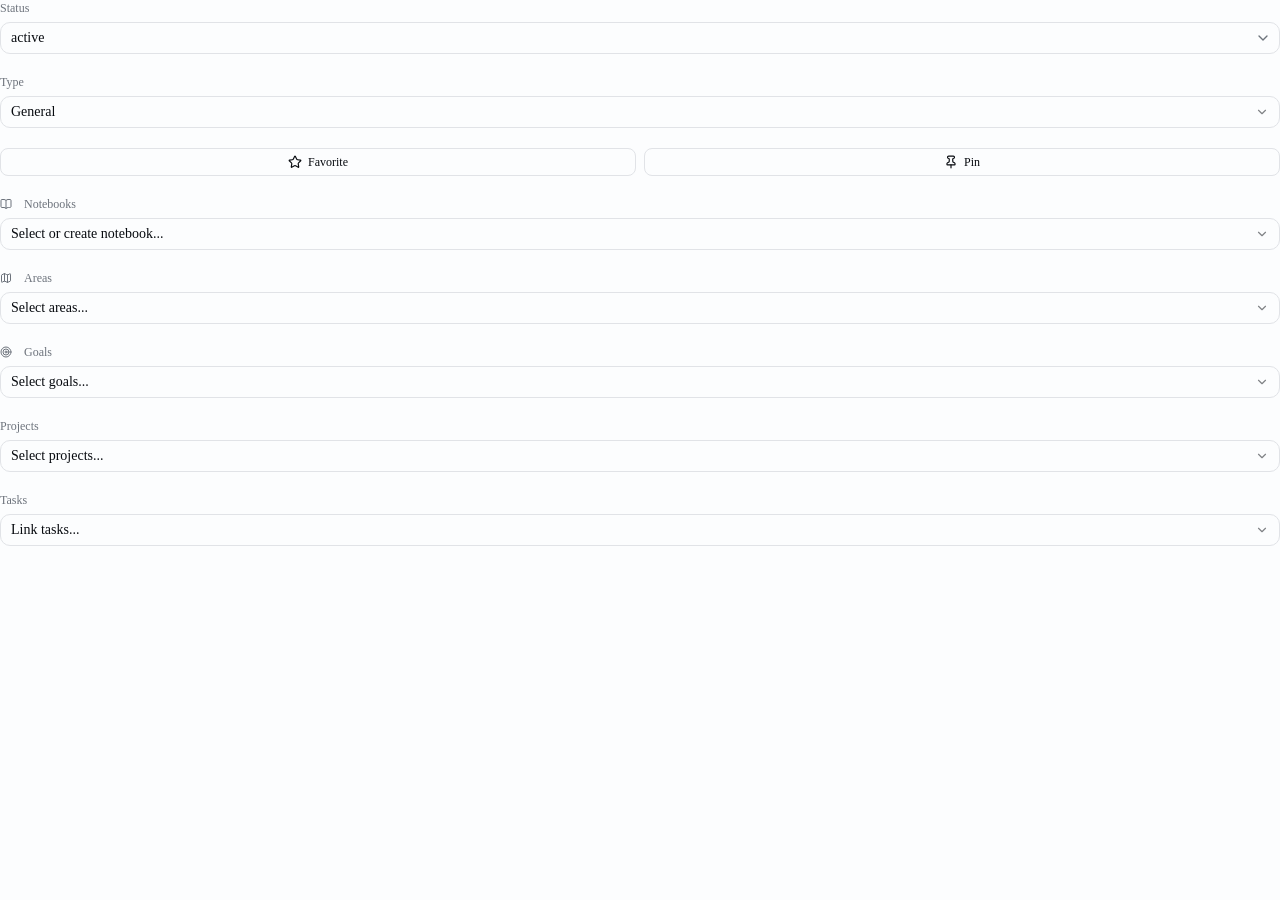
Test case: NoteMetadataPanel: unassigned entities stay visible with area filter › without area filter, all goals/projects/tasks appear in dropdowns
Click the dropdown labelled "Select goals...": click(50, 382) [0,366,1279,398]
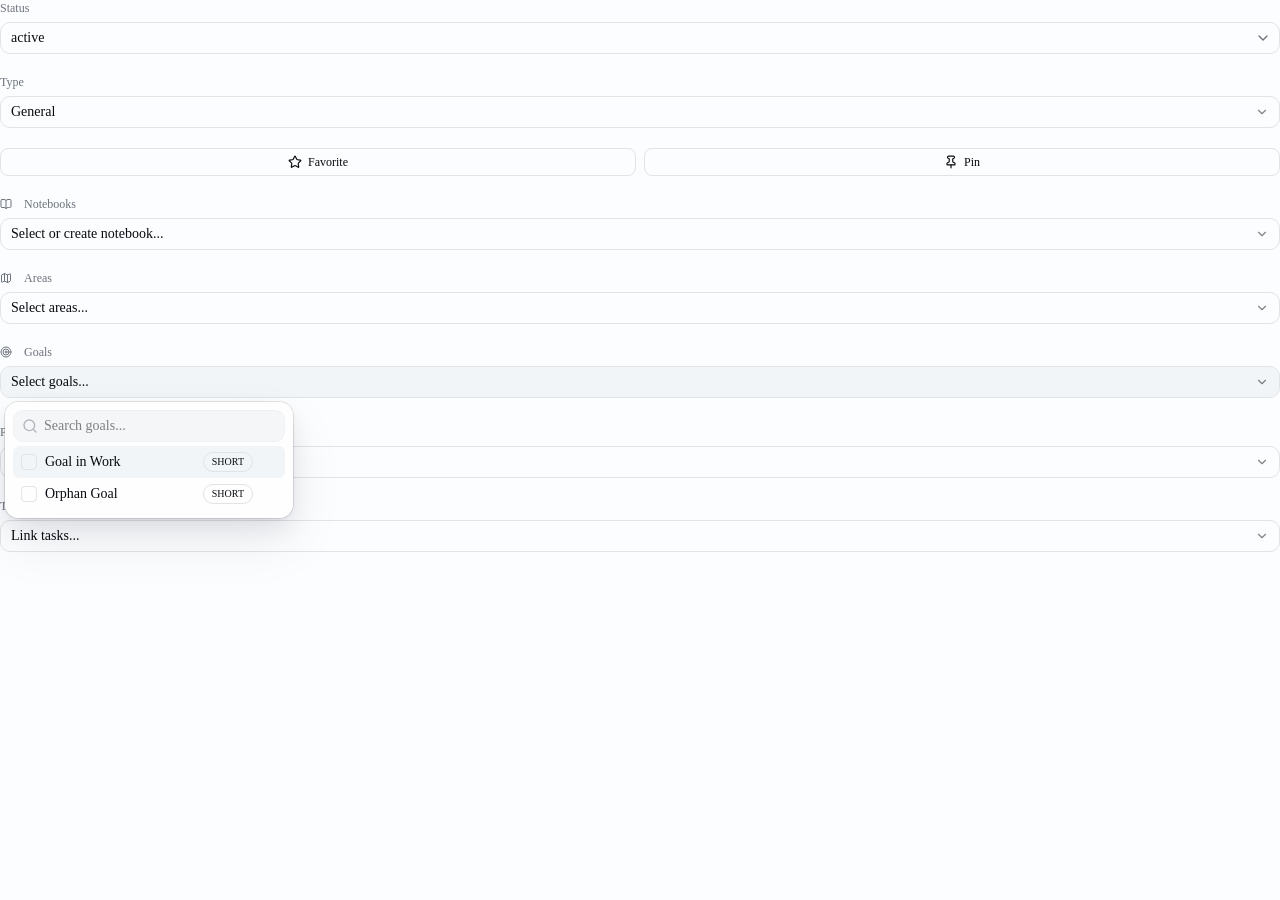
Now the text "Goal in Work" is shown, box [45,454,121,469]
Now the text "Orphan Goal" is shown, box [45,486,118,501]
Press Escape
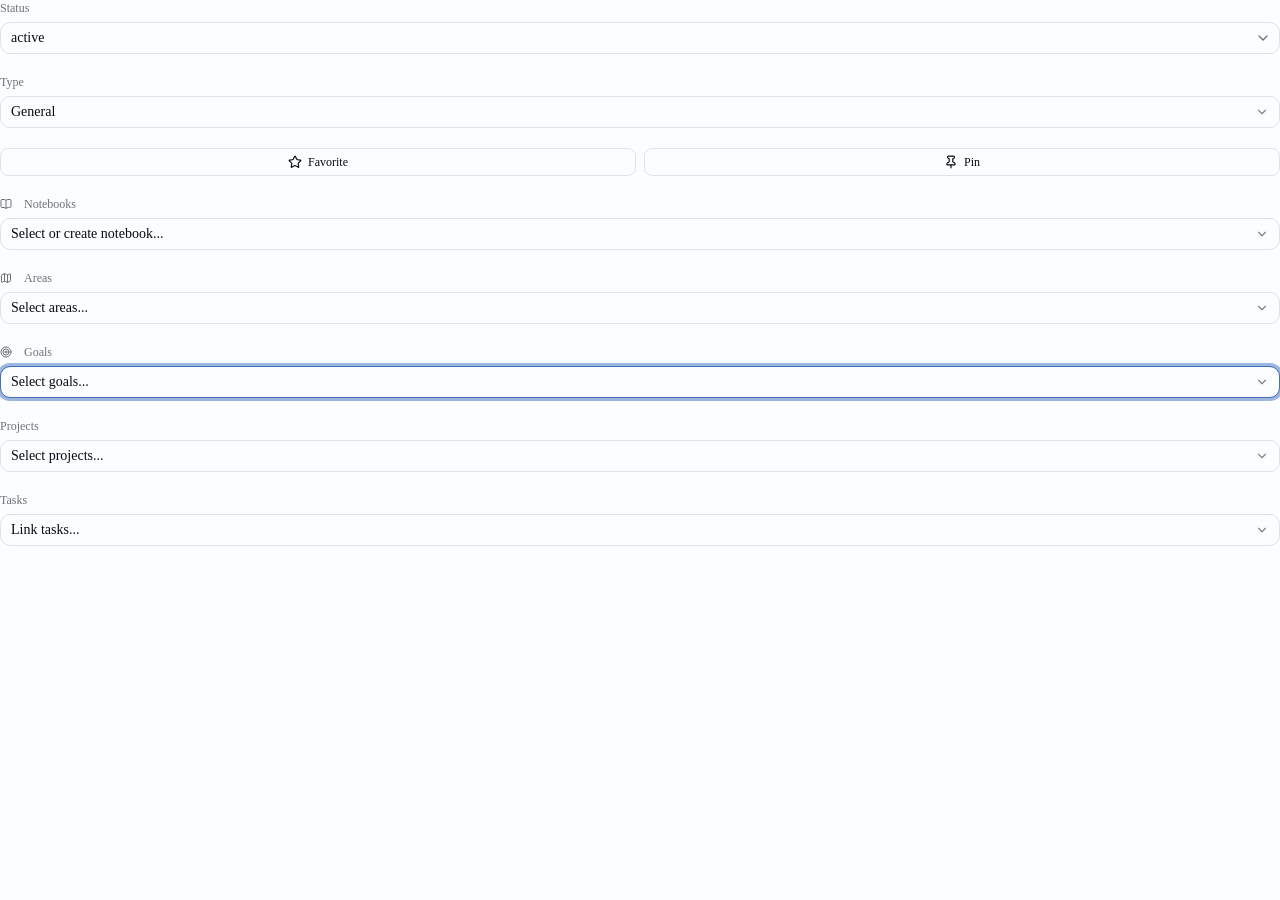
Click the dropdown labelled "Select projects...": click(57, 456) [0,440,1279,472]
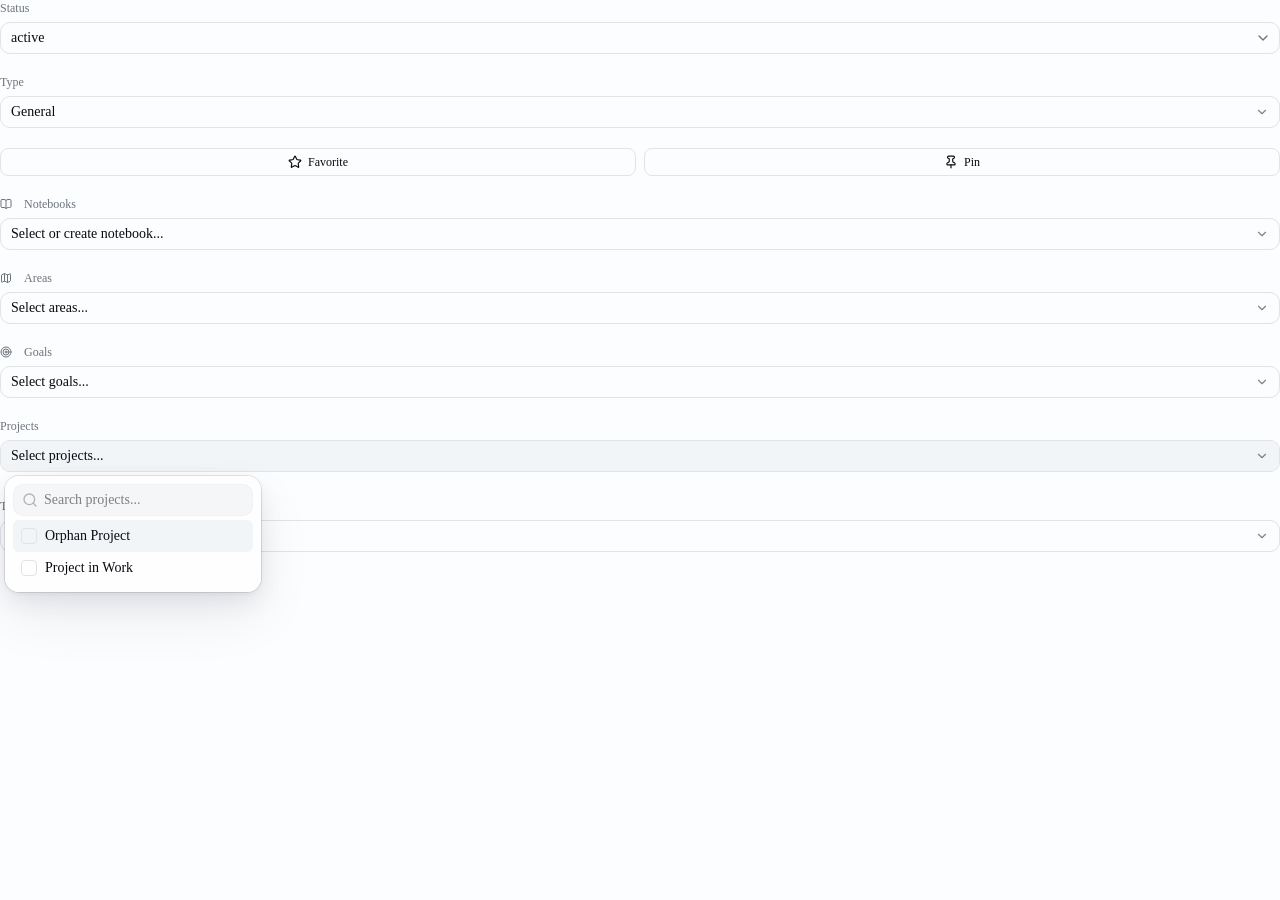
Now the text "Project in Work" is shown, box [45,560,133,575]
Now the text "Orphan Project" is shown, box [45,528,130,543]
Press Escape
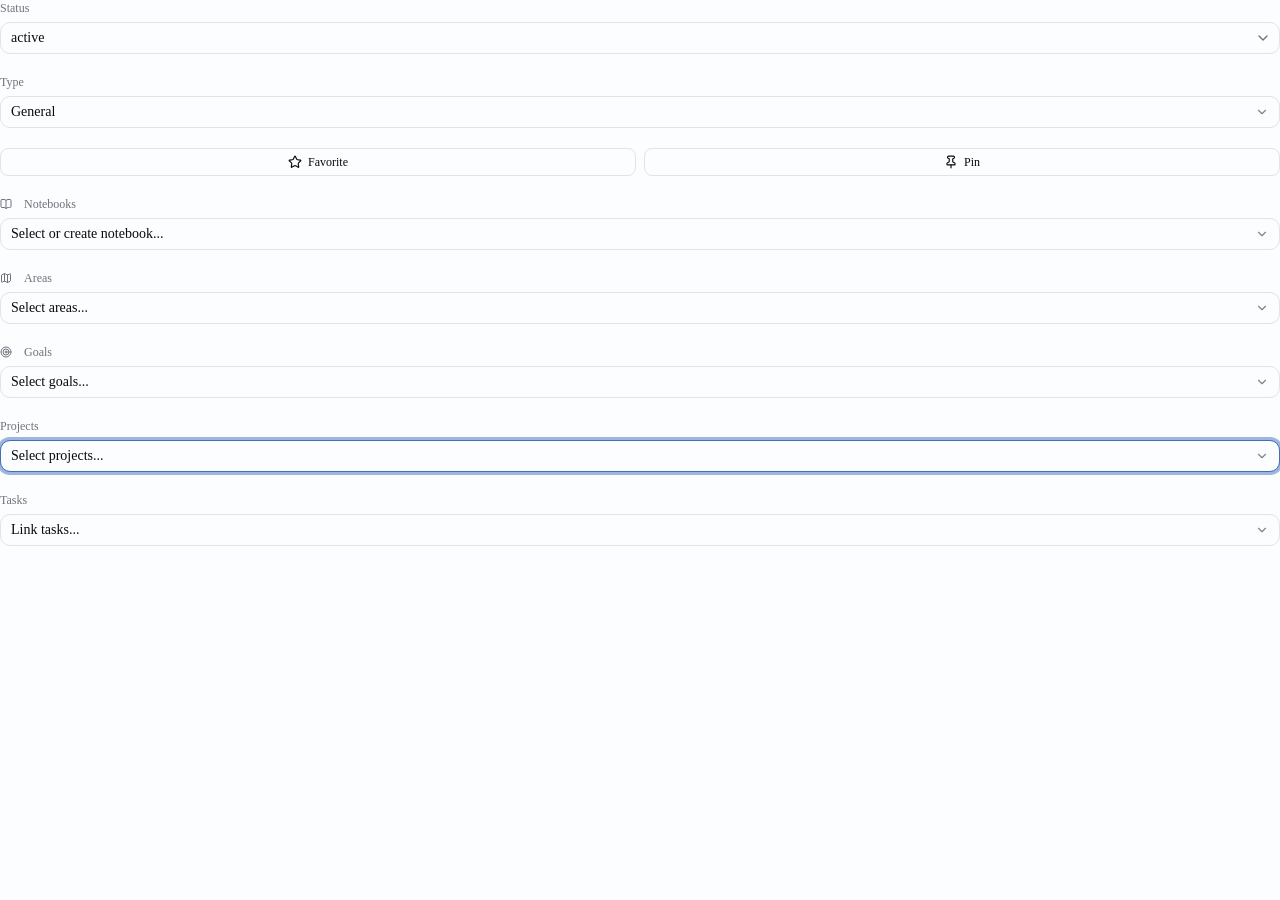
Click the dropdown labelled "Link tasks...": click(45, 530) [0,514,1279,546]
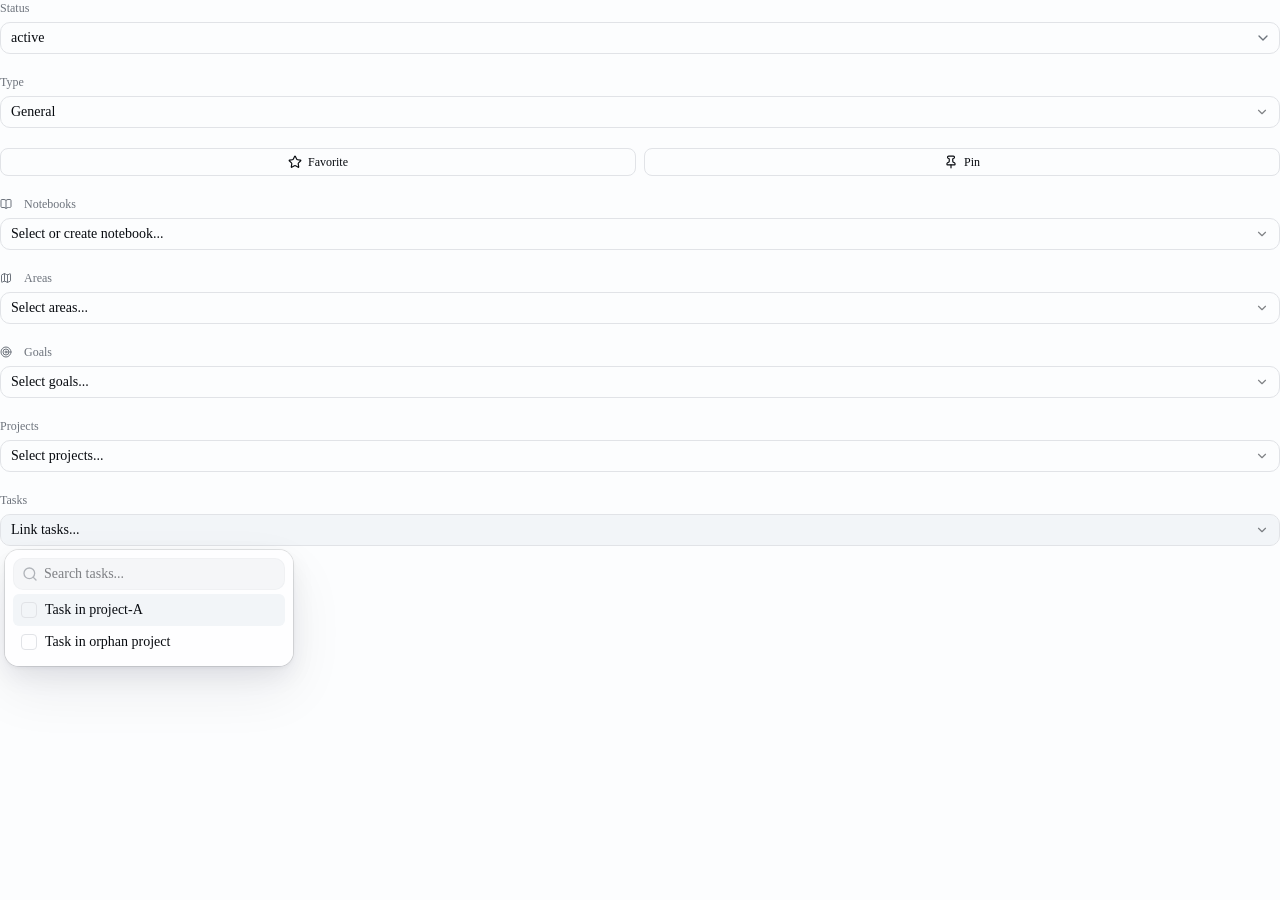
Now the text "Task in project-A" is shown, box [45,602,143,617]
Now the text "Task in orphan project" is shown, box [45,634,170,649]
